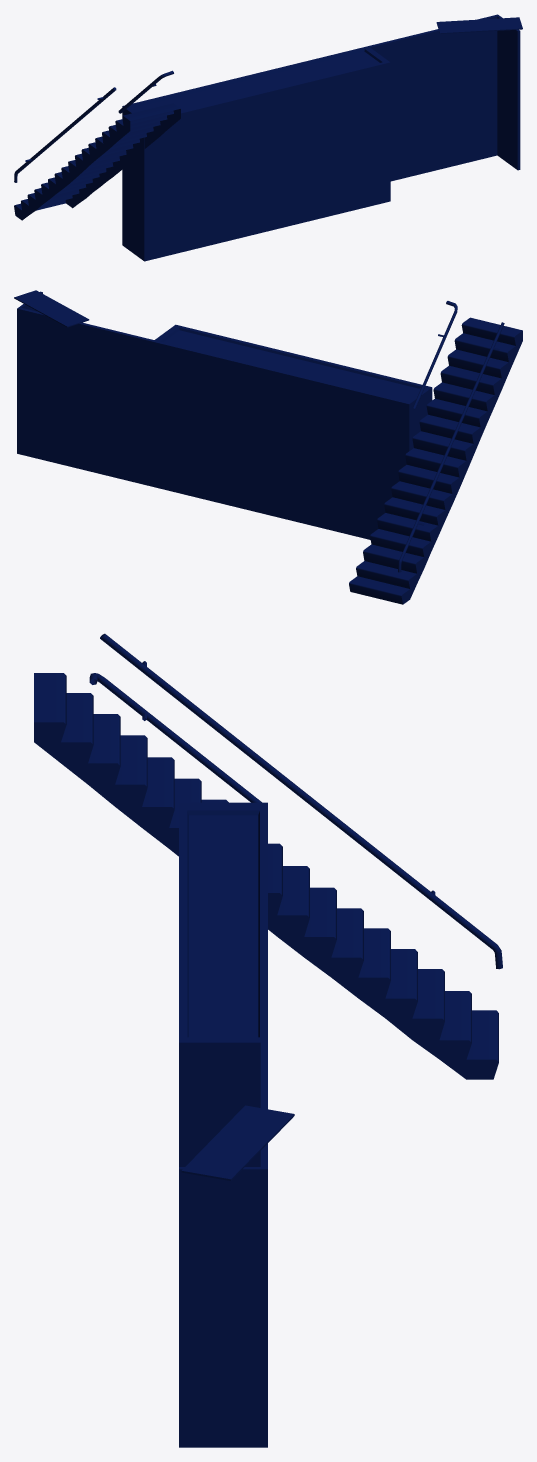
File: TestTrap.fbx
3 renders of one model, top to bottom at view 1: azimuth 30°, elevation 25°; view 2: azimuth 150°, elevation 25°; view 3: azimuth 270°, elevation 25°, orthographic. The views are drawn at different scales.
Visible parts, largest first — view 1: HutCornerMesh; view 2: HutCornerMesh; view 3: HutCornerMesh.
Part boxes in pixels (box(x1,y1,x2,y2)): HutCornerMesh: box(14, 14, 522, 261); HutCornerMesh: box(14, 290, 522, 604); HutCornerMesh: box(34, 633, 502, 1447).
Bounding box in the file's own units: 13.54 × 5.97 × 6.2.
